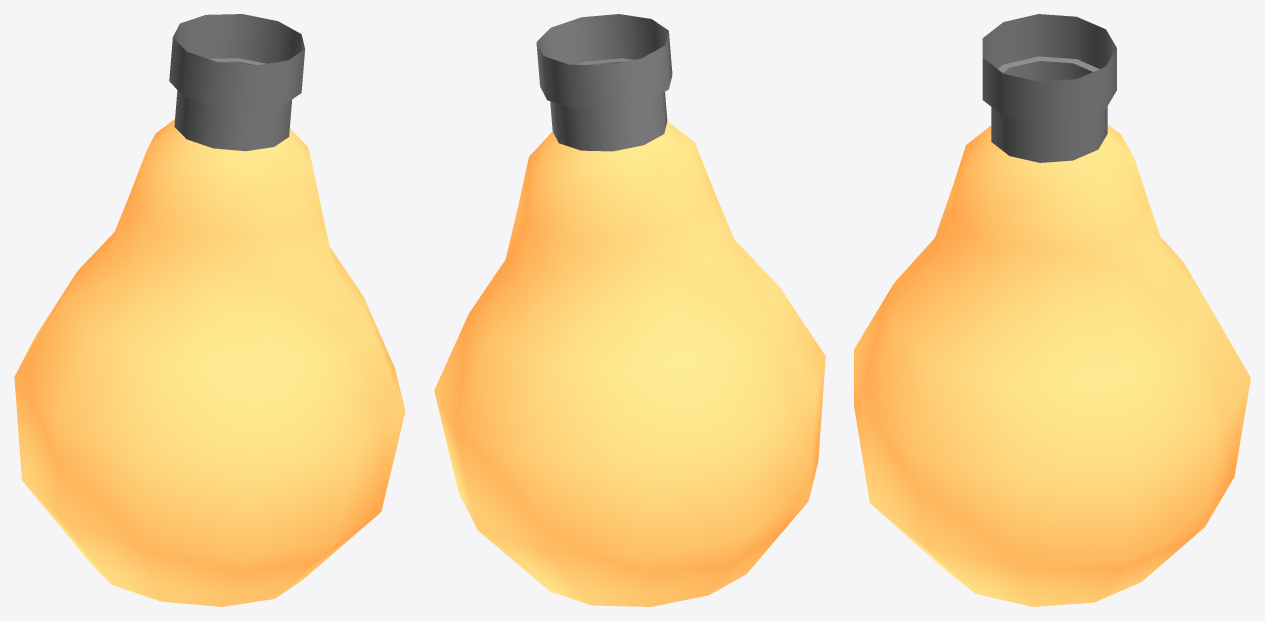
The model's file is Bulb_Ilum_Orange.FBX.
3 views of the same model, side by side, from view 1: azimuth 30°, elevation 25°; view 2: azimuth 150°, elevation 25°; view 3: azimuth 270°, elevation 25° (orthographic). The views are drawn at different scales.
Visible parts, largest first — view 1: Bulb_Ilum_Orange; view 2: Bulb_Ilum_Orange; view 3: Bulb_Ilum_Orange.
Part boxes in pixels (x1,y1,x2,y2): Bulb_Ilum_Orange: [14, 14, 405, 606]; Bulb_Ilum_Orange: [434, 14, 825, 606]; Bulb_Ilum_Orange: [854, 14, 1250, 606].
Bounding box in the file's own units: 8.61 × 13.33 × 8.56.
